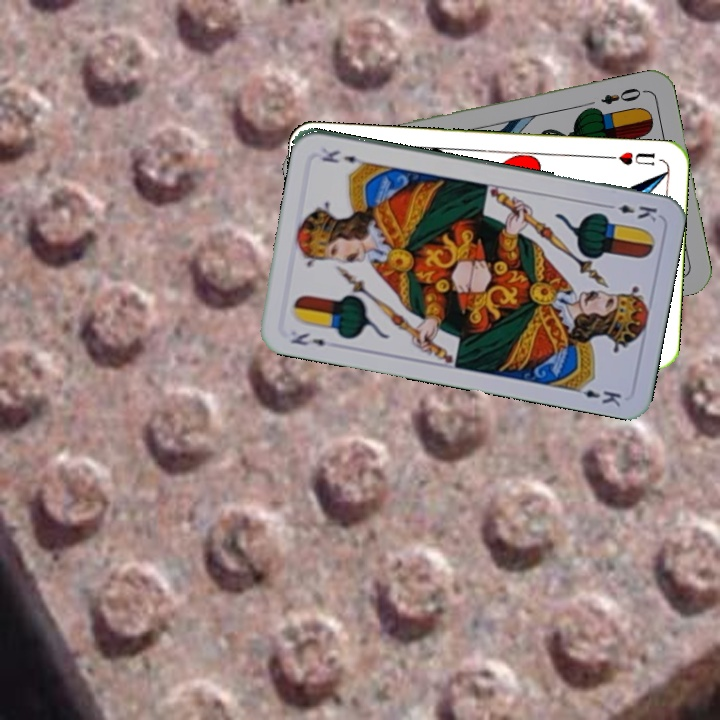EK: (601, 200, 660, 224), (287, 328, 340, 350)
EO: (597, 84, 648, 107)
HU: (604, 147, 658, 168)
